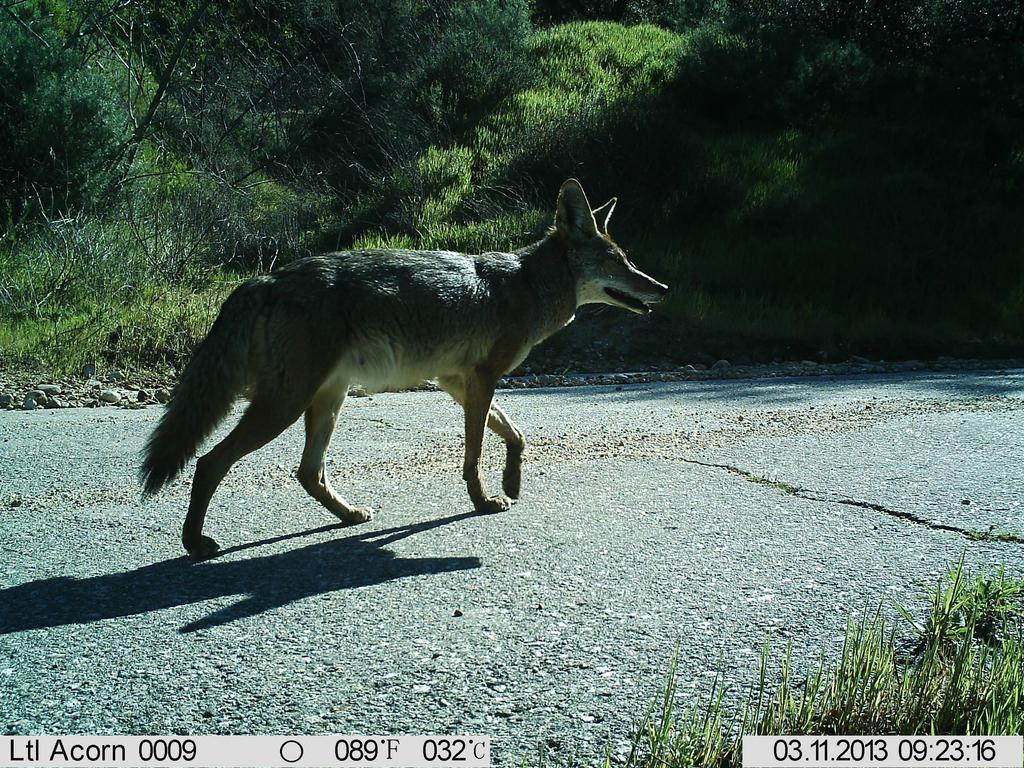coyote: (133, 175, 679, 569)
